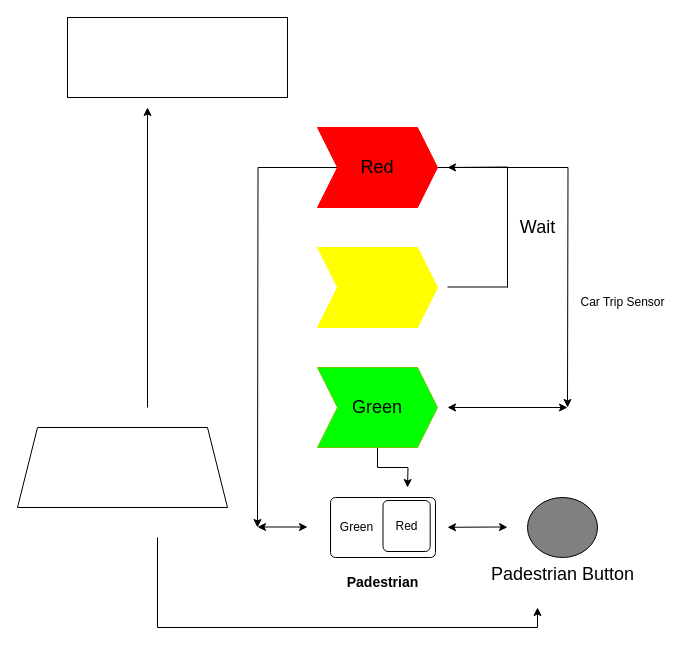
Some shapes in this 695 by 653 pixel diagram are drawn without their labels. Here are the shapes that lost their labels. From the top down, the centre of each, then its label:
the point at 177,57: Traffic Light System
the point at 377,287: Yellow
the point at 122,467: Controller Class
